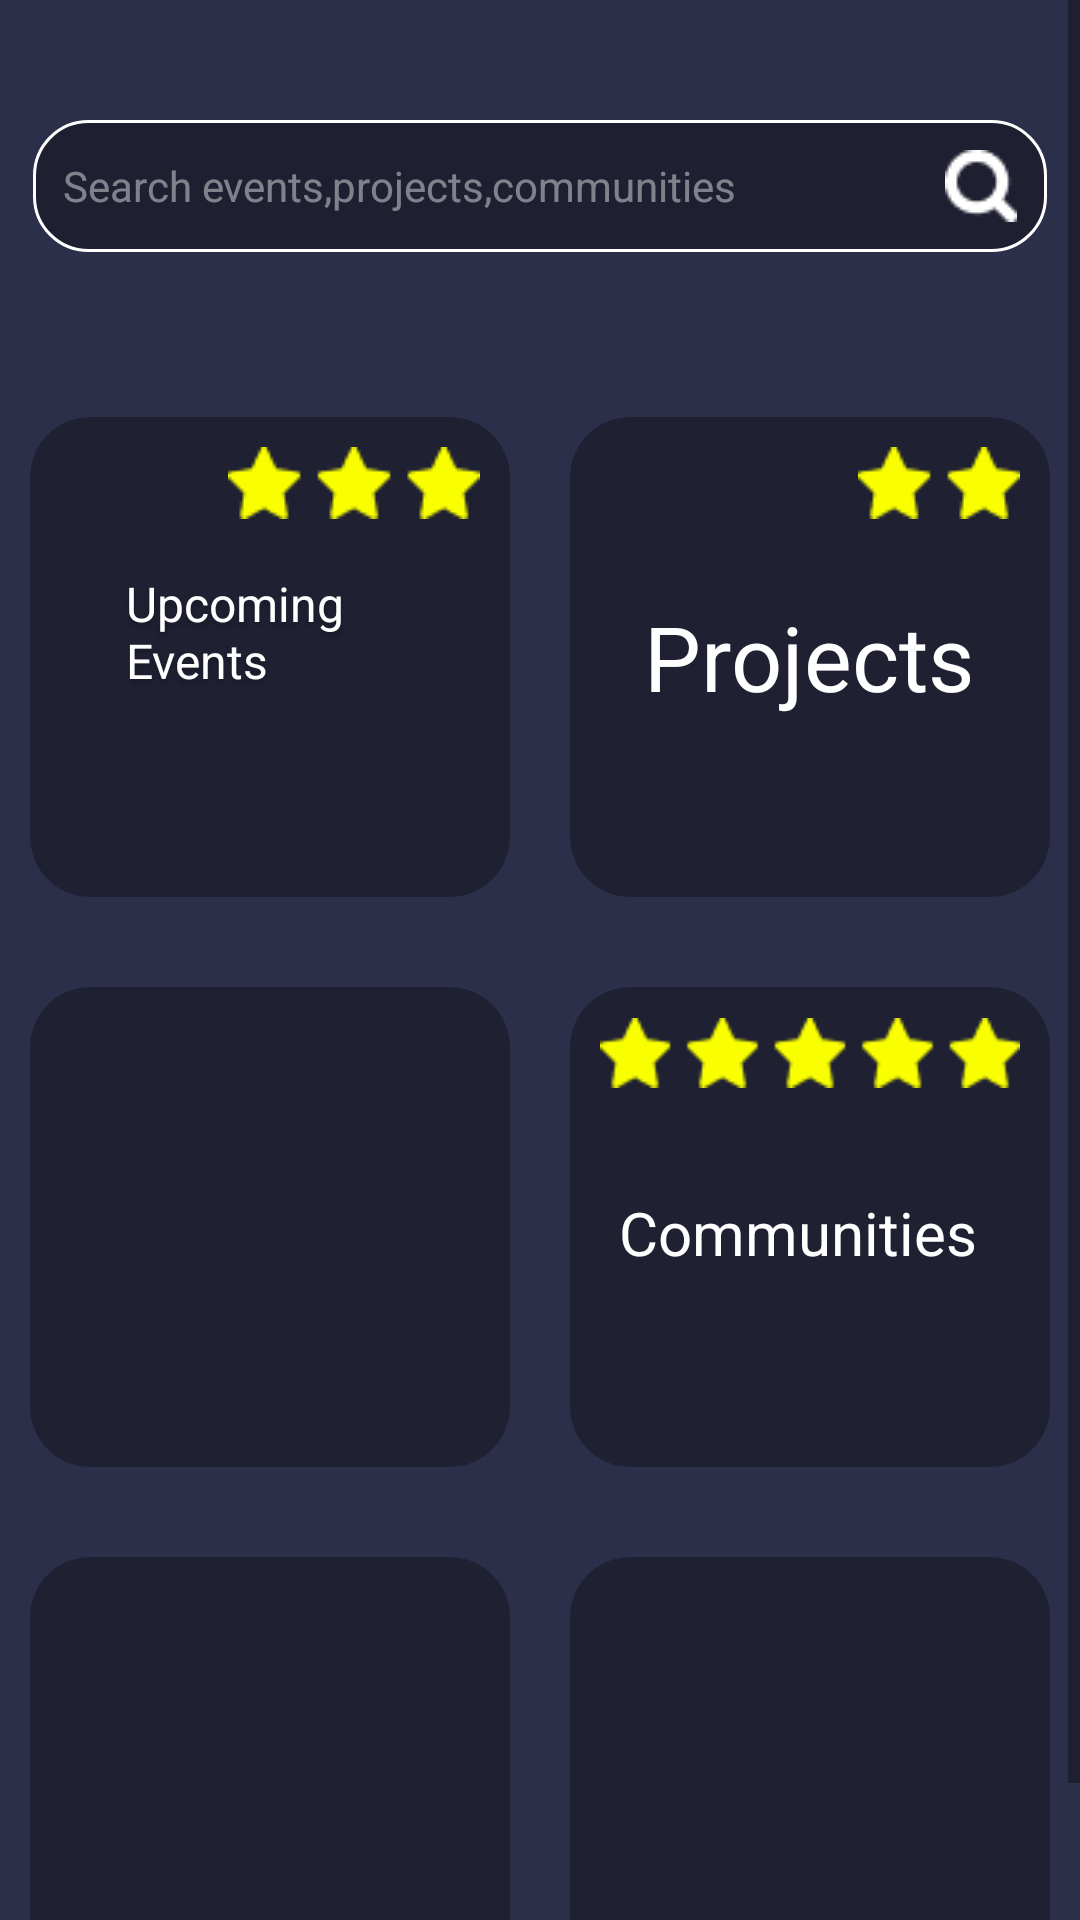

Named icons in this screenshot (1080w x 1920h) and their centers, (x=x, y=y):
three star: (x=354, y=483)
two star: (x=939, y=483)
